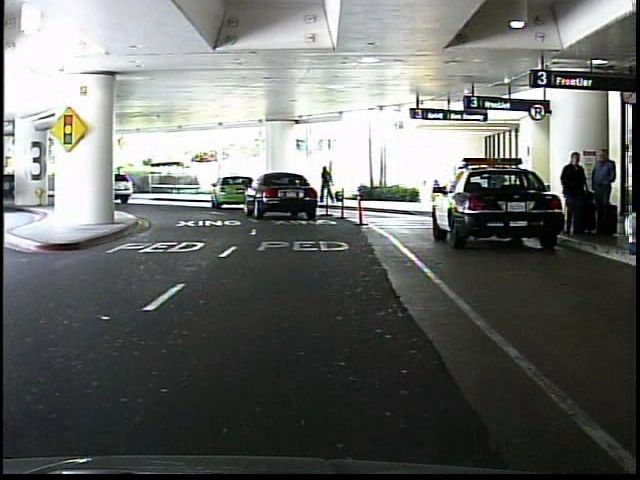person: (587, 145, 619, 242), (559, 149, 589, 249), (321, 162, 338, 206)
